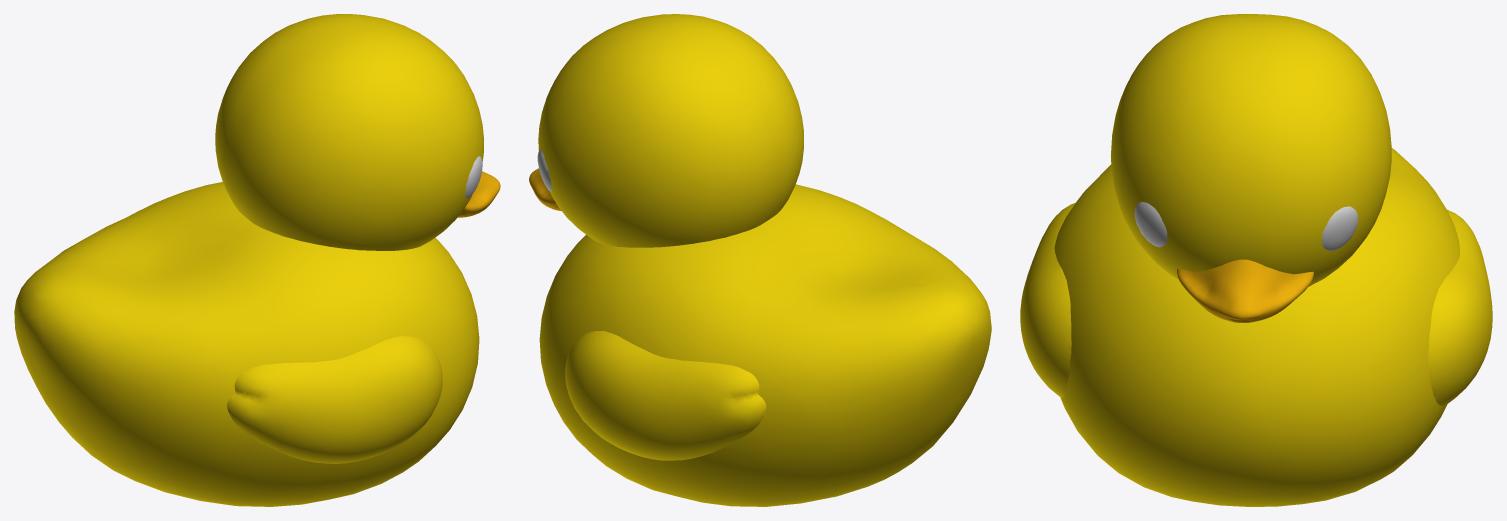
Rendered from duck.fbx.
3 views of the same model, side by side, from view 1: azimuth 30°, elevation 25°; view 2: azimuth 150°, elevation 25°; view 3: azimuth 270°, elevation 25° (orthographic). The views are drawn at different scales.
Parts seen in each view (by area): view 1: Group3, Group6, wing_1_2, Group2; view 2: Group3, Group6, wing_1_1, Group2; view 3: Group3, Group6, wing_1_1, wing_1_2, Group2, eye_1_1, eye_1_2.
Boxes of the visible parts, x1,y1,x2,y2 form: Group3: (14,182,479,506); Group6: (215,14,483,250); wing_1_2: (227,336,442,463); Group2: (458,171,500,217); Group3: (539,184,991,506); Group6: (538,14,803,247); wing_1_1: (565,331,766,460); Group2: (529,168,561,210); Group3: (1054,148,1459,506); Group6: (1110,14,1391,286); wing_1_1: (1428,210,1492,405); wing_1_2: (1020,202,1075,397); Group2: (1177,259,1313,322); eye_1_1: (1322,206,1358,250); eye_1_2: (1134,201,1167,247).
Bounding box in the file's own units: 12.03 × 10.68 × 9.61.
